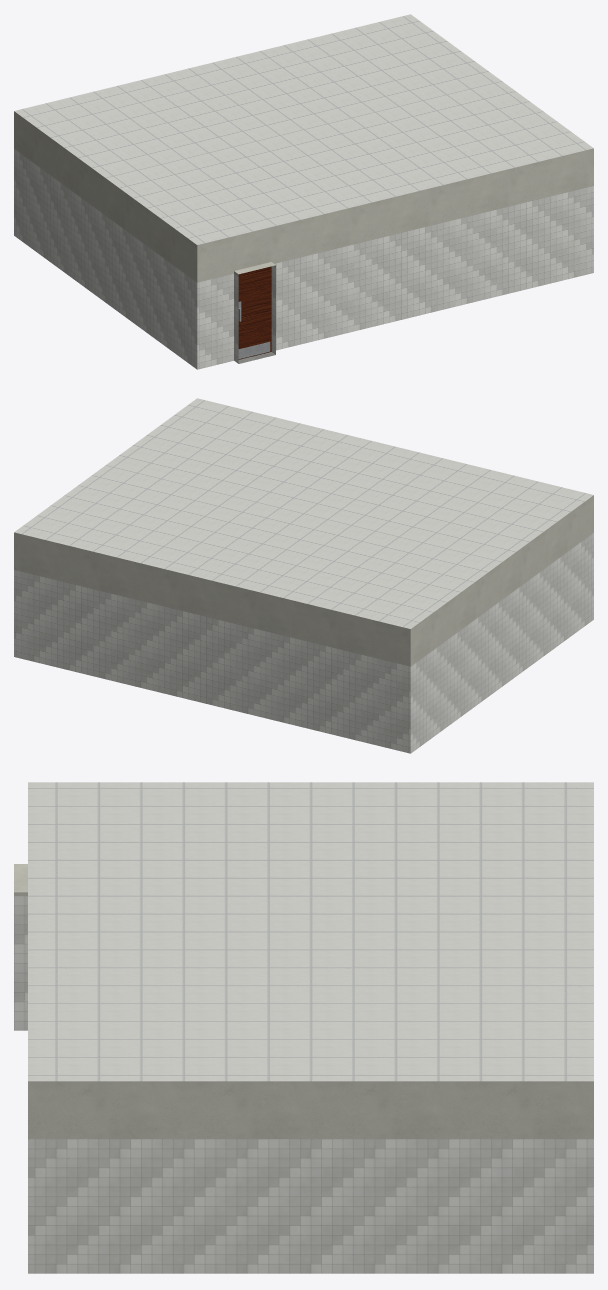
File: mirror_bathroom.glb
The picture shows the model from 3 angles, top to bottom: view 1: azimuth 30°, elevation 25°; view 2: azimuth 150°, elevation 25°; view 3: azimuth 270°, elevation 25°; orthographic projection. The views are drawn at different scales.
Visible parts, largest first — view 1: X_Skin_Ceiling_Grid, X_Skin_Tile_Wall_Bath, X_Skin_Paint_Bath, DoorLeaf_wing_cinema; view 2: X_Skin_Ceiling_Grid, X_Skin_Tile_Wall_Bath, X_Skin_Paint_Bath; view 3: X_Skin_Ceiling_Grid, X_Skin_Tile_Wall_Bath, X_Skin_Paint_Bath.
Boxes of the visible parts, bbox=[...] form: X_Skin_Ceiling_Grid: bbox=[14, 14, 593, 244]; X_Skin_Tile_Wall_Bath: bbox=[14, 148, 593, 369]; X_Skin_Paint_Bath: bbox=[14, 111, 593, 282]; DoorLeaf_wing_cinema: bbox=[238, 266, 271, 359]; X_Skin_Ceiling_Grid: bbox=[14, 398, 593, 628]; X_Skin_Tile_Wall_Bath: bbox=[14, 532, 593, 753]; X_Skin_Paint_Bath: bbox=[14, 495, 593, 666]; X_Skin_Ceiling_Grid: bbox=[28, 782, 593, 1081]; X_Skin_Tile_Wall_Bath: bbox=[14, 896, 593, 1273]; X_Skin_Paint_Bath: bbox=[14, 864, 593, 1138].
Bounding box in the file's own units: 10.06 × 3 × 8.2.
26 materials, 17 textured.
